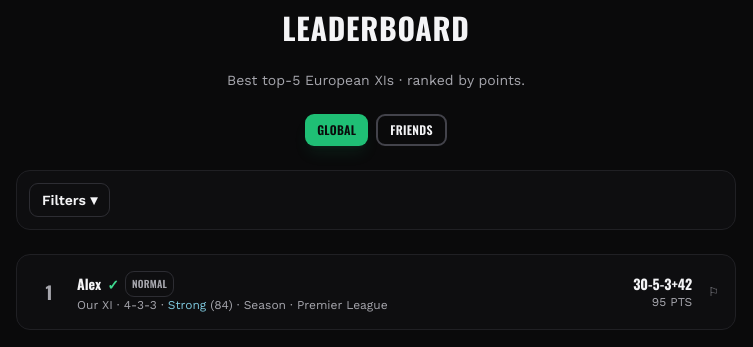
Test: LeaderboardPage › shows the Friends-tab stub instead of the global list when Friends is selected
The width and height of the screenshot is (753, 347).
Expected: the text "Alex" is shown, [77,273,101,294]
Click the button "Friends" at (412, 130), box [376,114,447,146]
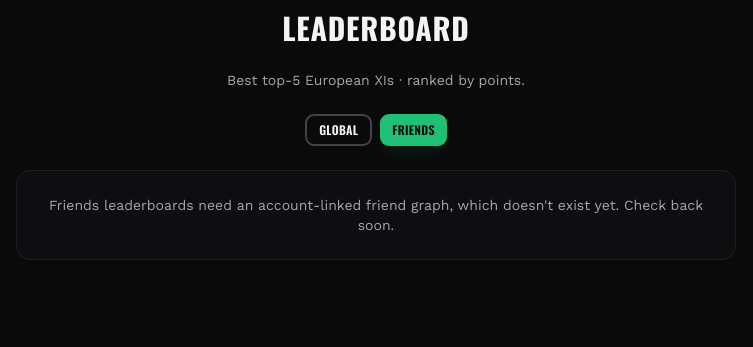
Expected: the text "friend graph" is shown, [49,197,619,213]
Expected: the text "Alex" is gone
